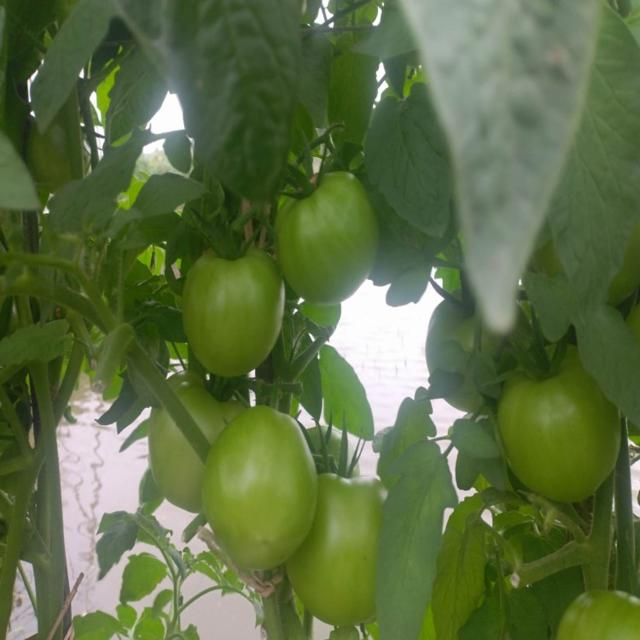tomato: (211, 405, 315, 577), (502, 369, 615, 502), (275, 171, 377, 307), (183, 255, 286, 377), (298, 471, 378, 626), (149, 411, 212, 521), (422, 290, 479, 364), (561, 591, 640, 640), (30, 129, 87, 188)
